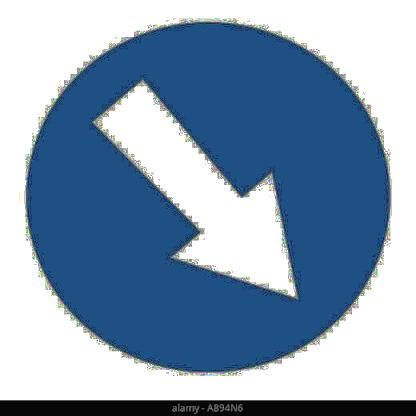Keep right: (26, 17, 401, 376)
